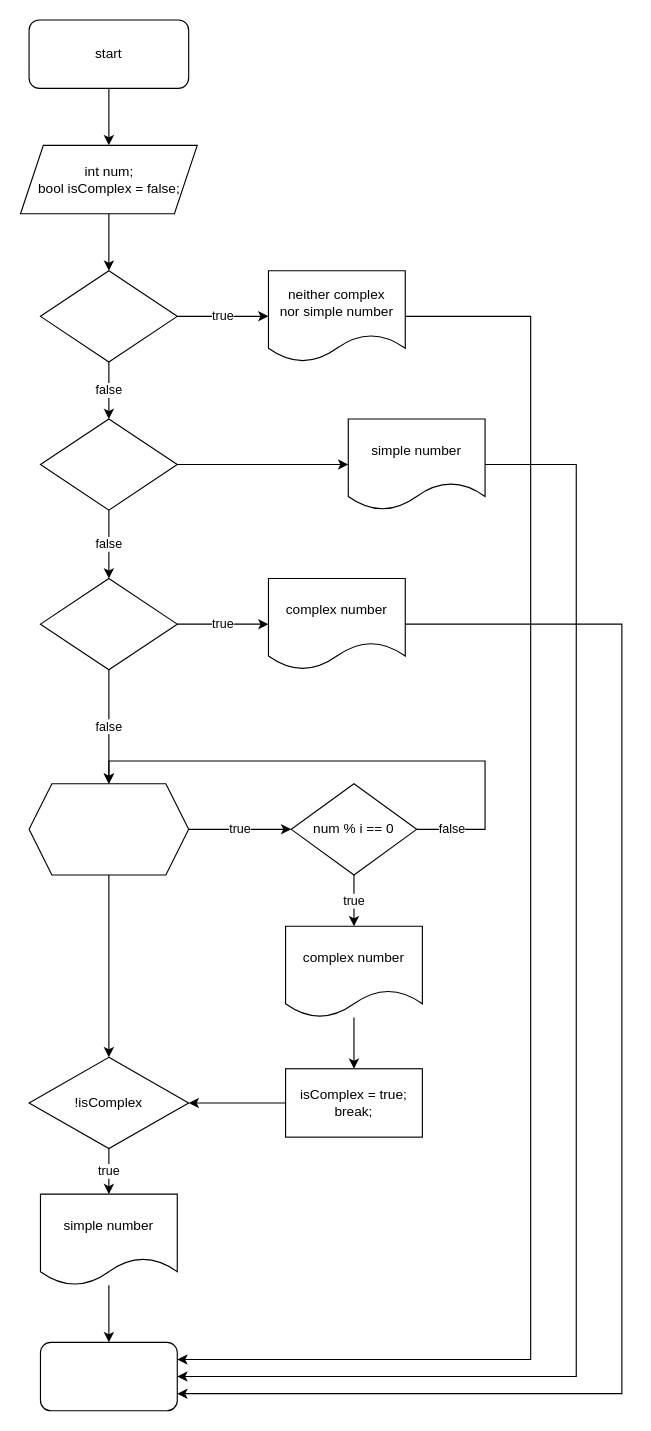
Image size: 651x1431. Some labels were removed from this diagram. Here are the shapes that lost their labels. From the top down, the box of each, then its label:
(39, 270, 177, 362): num == 1
(39, 418, 177, 510): num == 2
(39, 577, 177, 670): num % 2 == 0
(28, 783, 189, 875): i = 3; i * i < num; i += 2
(39, 1341, 177, 1411): end
